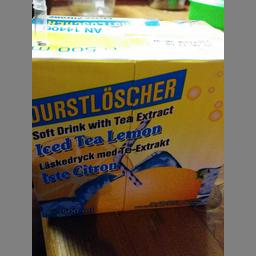juice: (31, 12, 223, 214)
